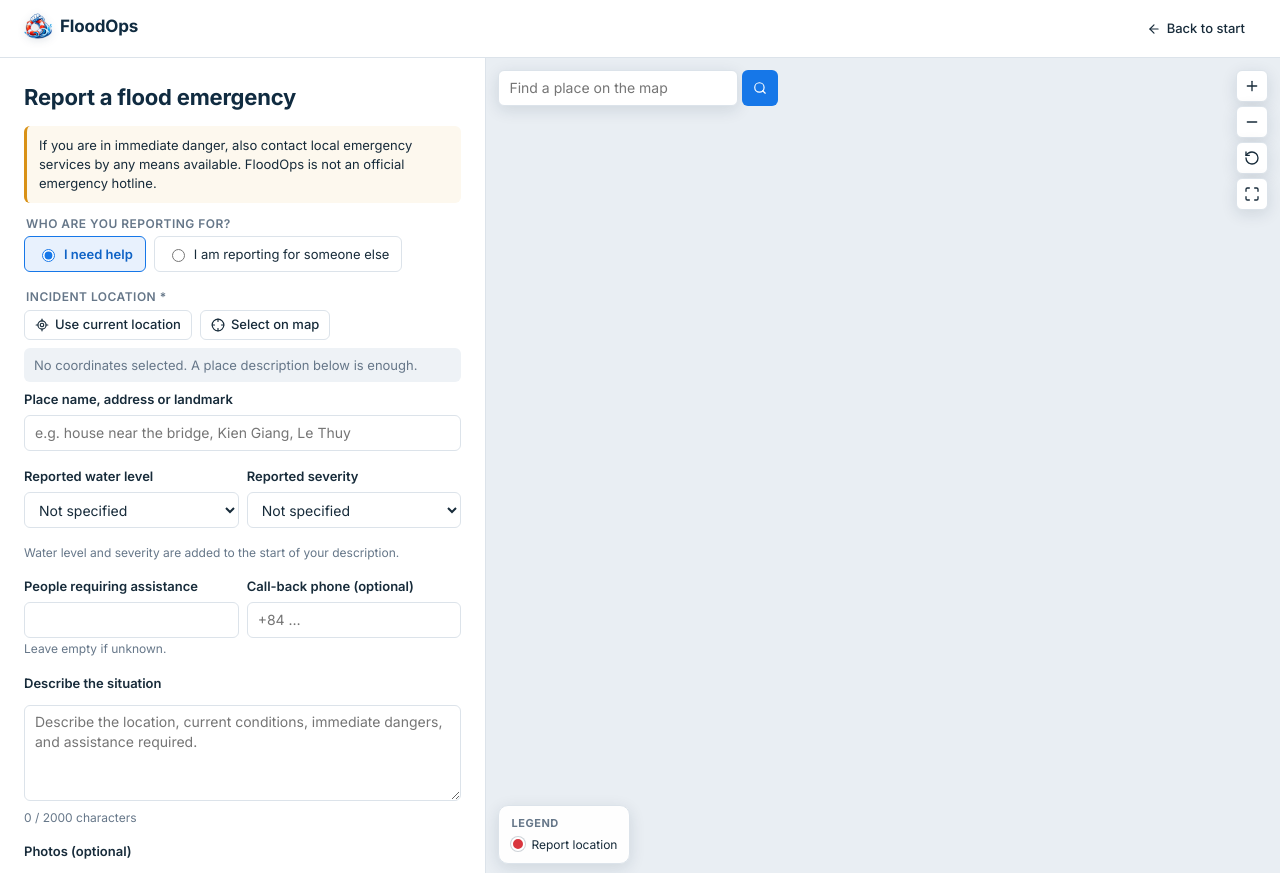
ReportPage › explains a denied location permission and invents no coordinates
Click the button "Use current location" at (108, 324), box left=24, top=310, right=192, bottom=340
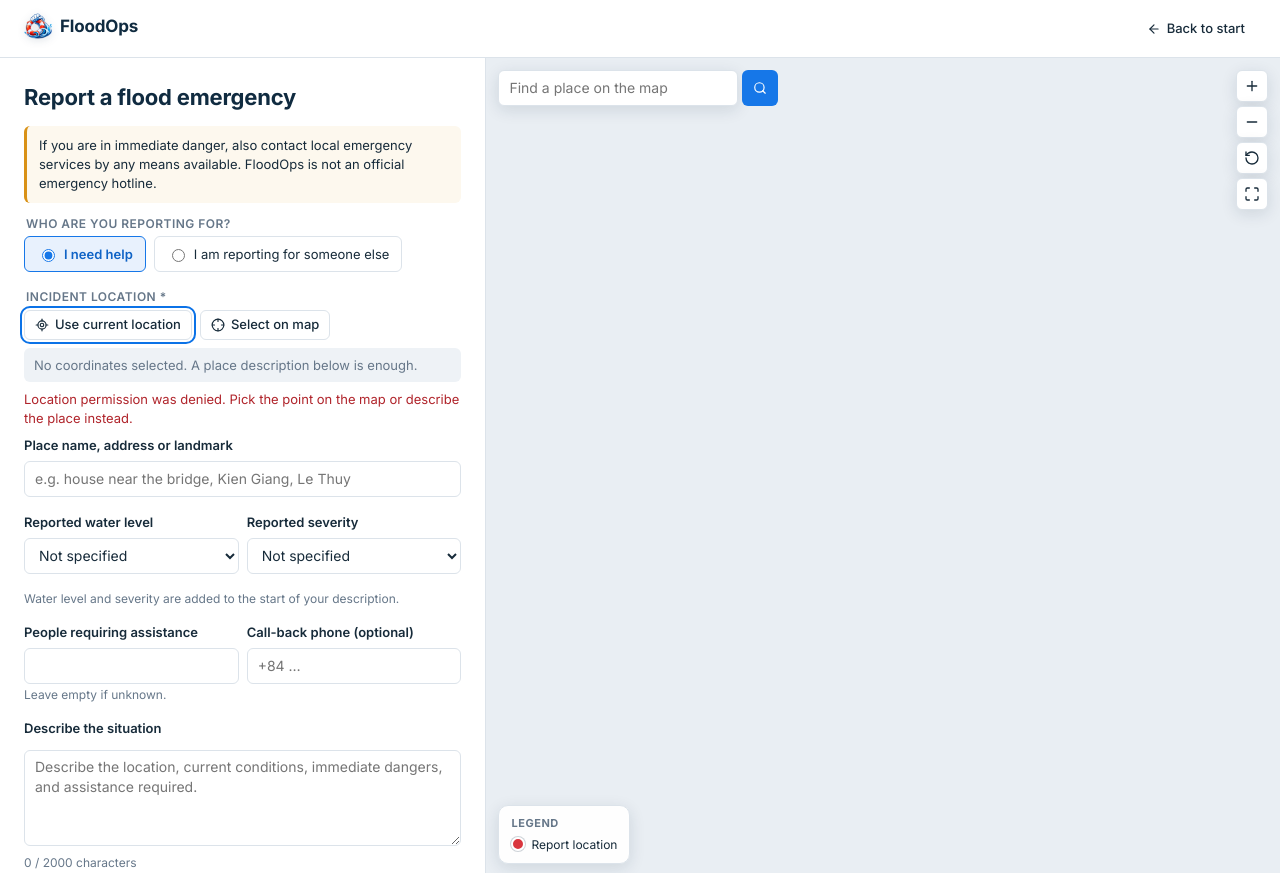
Expected: the text "No coordinates selected" is shown, left=34, top=356, right=418, bottom=372
Now the text "Location permission was denied" is shown, box left=24, top=391, right=459, bottom=426
